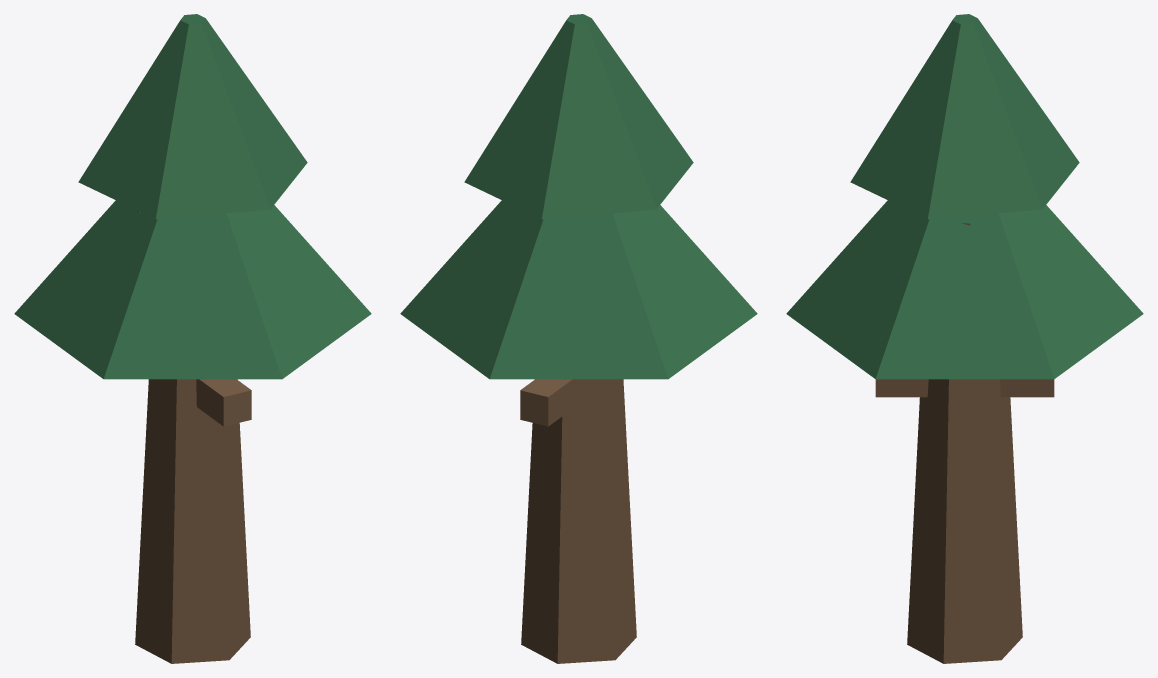
The model's file is df_dead_tree_blocker_a.glb.
3 renders of one model, left to right at view 1: azimuth 30°, elevation 25°; view 2: azimuth 150°, elevation 25°; view 3: azimuth 270°, elevation 25°, orthographic.
Parts seen in each view (by area): view 1: needles_low, needles_top, trunk, branch_0; view 2: needles_low, needles_top, trunk, branch_0; view 3: needles_low, trunk, needles_top, branch_0.
Boxes of the visible parts, bbox=[...] form: needles_low: bbox=[14, 200, 371, 379]; needles_top: bbox=[78, 14, 307, 219]; trunk: bbox=[135, 379, 250, 663]; branch_0: bbox=[196, 379, 251, 426]; needles_low: bbox=[400, 200, 757, 379]; needles_top: bbox=[464, 14, 693, 219]; trunk: bbox=[521, 379, 636, 663]; branch_0: bbox=[520, 379, 575, 426]; needles_low: bbox=[786, 200, 1143, 379]; trunk: bbox=[907, 379, 1022, 663]; needles_top: bbox=[850, 14, 1079, 219]; branch_0: bbox=[875, 379, 1054, 397].
Bounding box in the file's own units: 0.9526 × 2.11 × 1.1.
